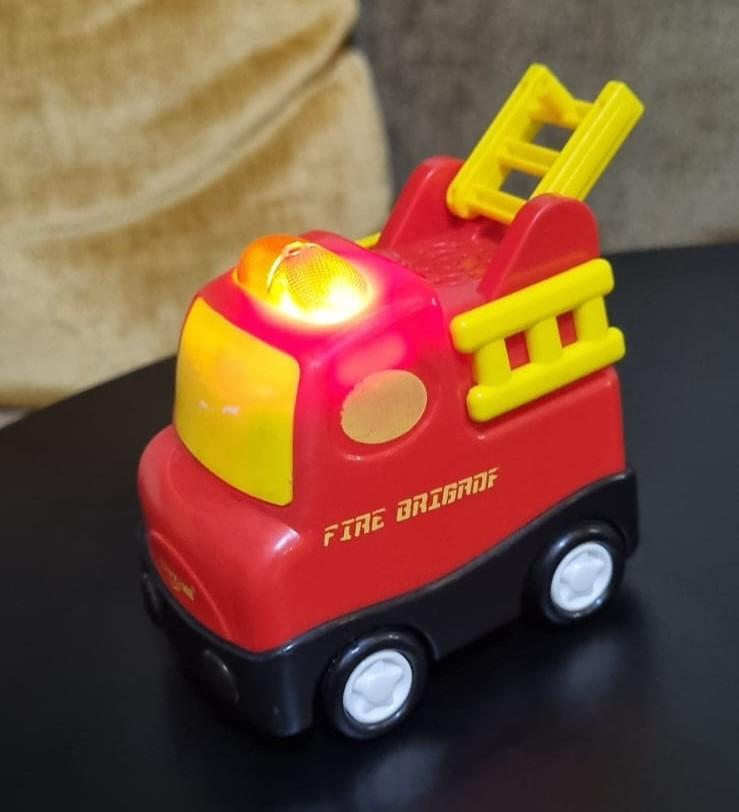firetruck_on: (137, 65, 649, 739)
